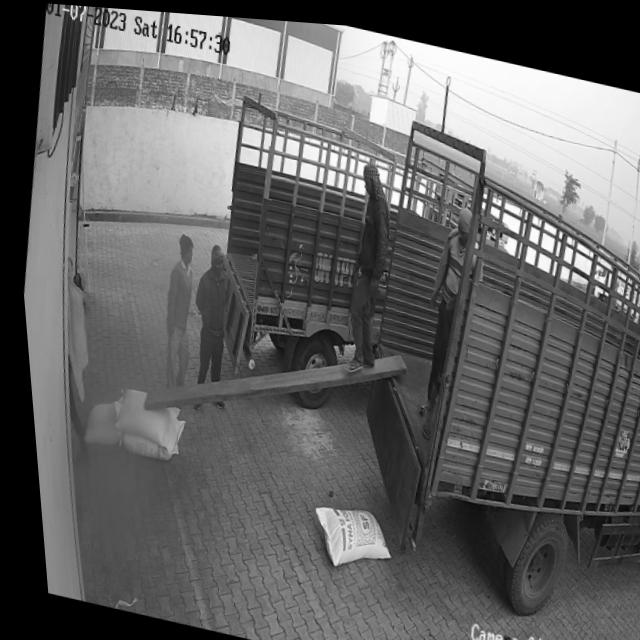sack: (298, 494, 389, 575), (103, 383, 177, 448), (108, 403, 181, 463), (72, 396, 121, 452)
